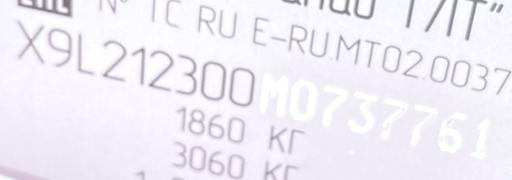letter: (12, 17, 48, 68), (436, 108, 468, 153), (378, 96, 408, 143), (98, 37, 128, 84), (409, 101, 439, 146), (146, 46, 174, 94), (288, 76, 318, 120), (260, 71, 288, 117), (321, 83, 349, 129), (348, 88, 376, 134), (200, 57, 228, 103), (46, 25, 74, 70), (228, 65, 256, 109), (174, 50, 198, 98), (74, 30, 96, 77), (470, 113, 492, 158), (128, 43, 146, 88)
